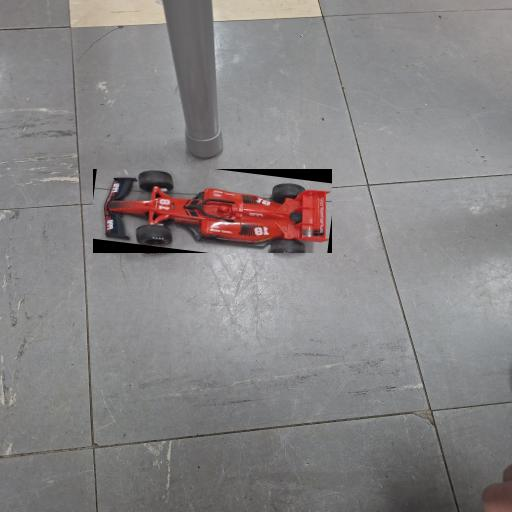carro: (93, 169, 332, 253)
